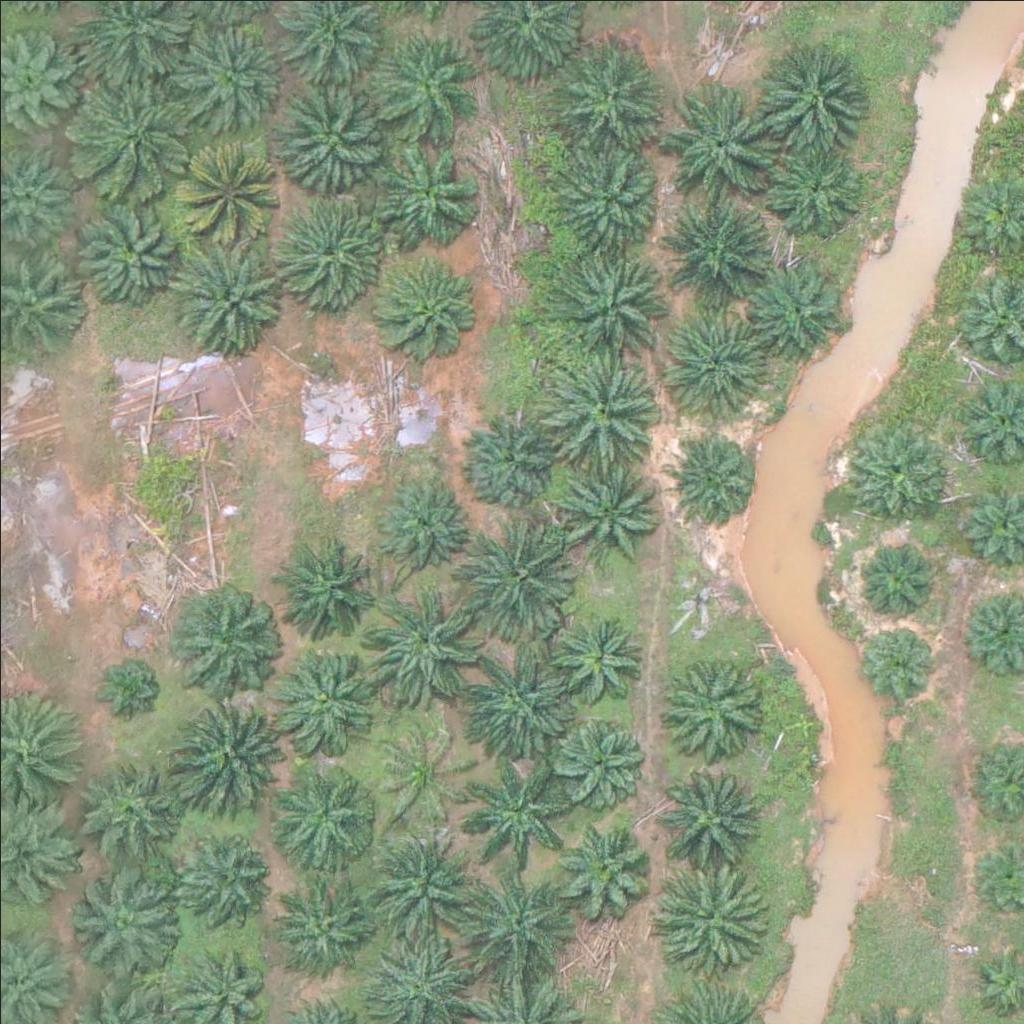Kelapa_Sawit: (547, 146, 660, 260), (459, 518, 572, 632), (556, 241, 669, 355), (658, 305, 771, 419), (75, 81, 188, 194), (272, 74, 385, 187), (370, 132, 483, 245), (759, 35, 872, 148), (76, 193, 189, 306), (71, 863, 184, 976), (172, 694, 285, 807), (458, 645, 571, 758), (656, 864, 769, 977), (368, 26, 480, 140), (265, 643, 377, 757), (363, 819, 475, 933), (370, 254, 482, 368), (660, 197, 772, 311), (650, 754, 762, 868), (556, 44, 668, 157), (668, 87, 780, 200), (174, 236, 286, 349), (284, 192, 396, 305), (171, 578, 283, 691), (367, 589, 479, 702), (462, 758, 574, 871), (458, 873, 570, 986), (546, 465, 658, 578), (542, 351, 654, 464), (187, 27, 287, 128), (765, 137, 865, 238), (75, 756, 175, 857), (178, 824, 278, 925), (369, 728, 469, 829), (462, 410, 562, 511), (552, 710, 652, 811), (548, 614, 648, 715), (659, 658, 759, 759), (846, 425, 946, 526), (746, 257, 846, 358), (181, 134, 281, 234), (276, 538, 376, 638), (272, 867, 372, 967), (279, 766, 379, 866), (373, 465, 473, 565), (555, 818, 655, 918), (671, 437, 758, 525), (852, 535, 939, 623), (861, 620, 936, 696), (90, 653, 165, 728)
